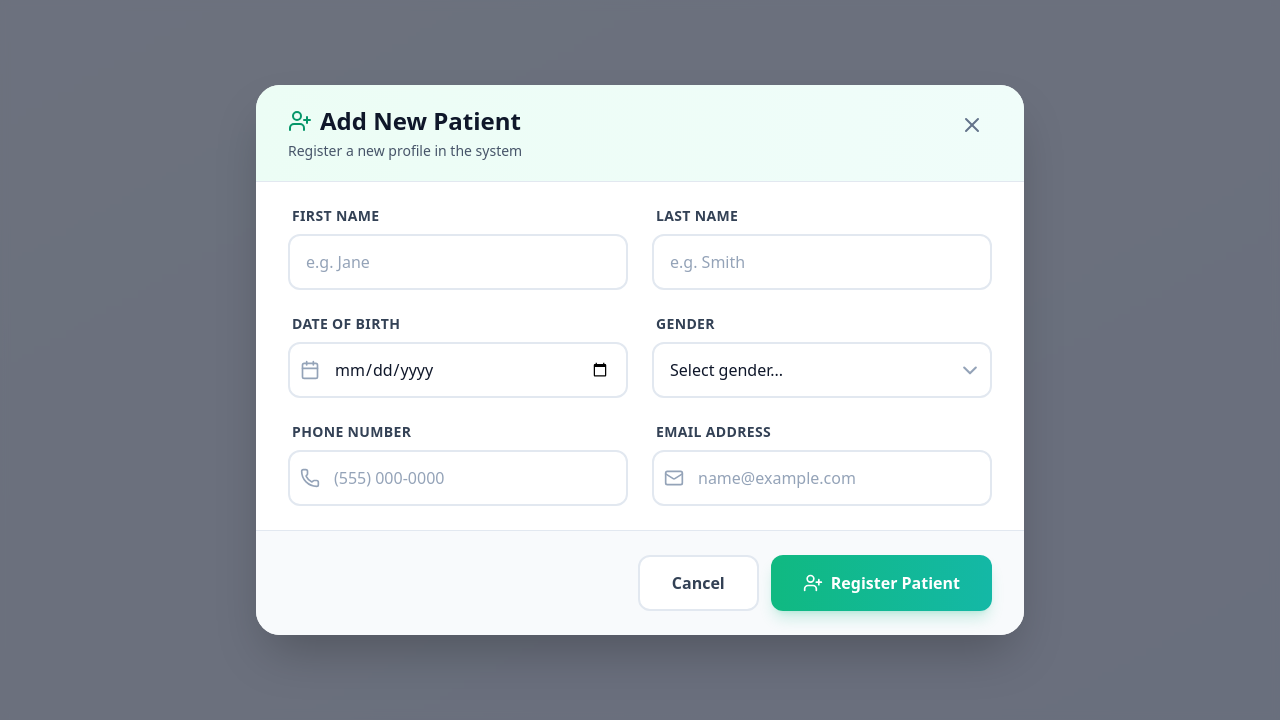
AddPatientModal › should show validation errors when submitting an empty form
This screenshot has width=1280, height=720.
Note: Click the submit button
What coordinates should you click on to do the following:
click the button "Register Patient"
I would click on:
 (881, 583)
Its box is x1=771 y1=555 x2=992 y2=611.
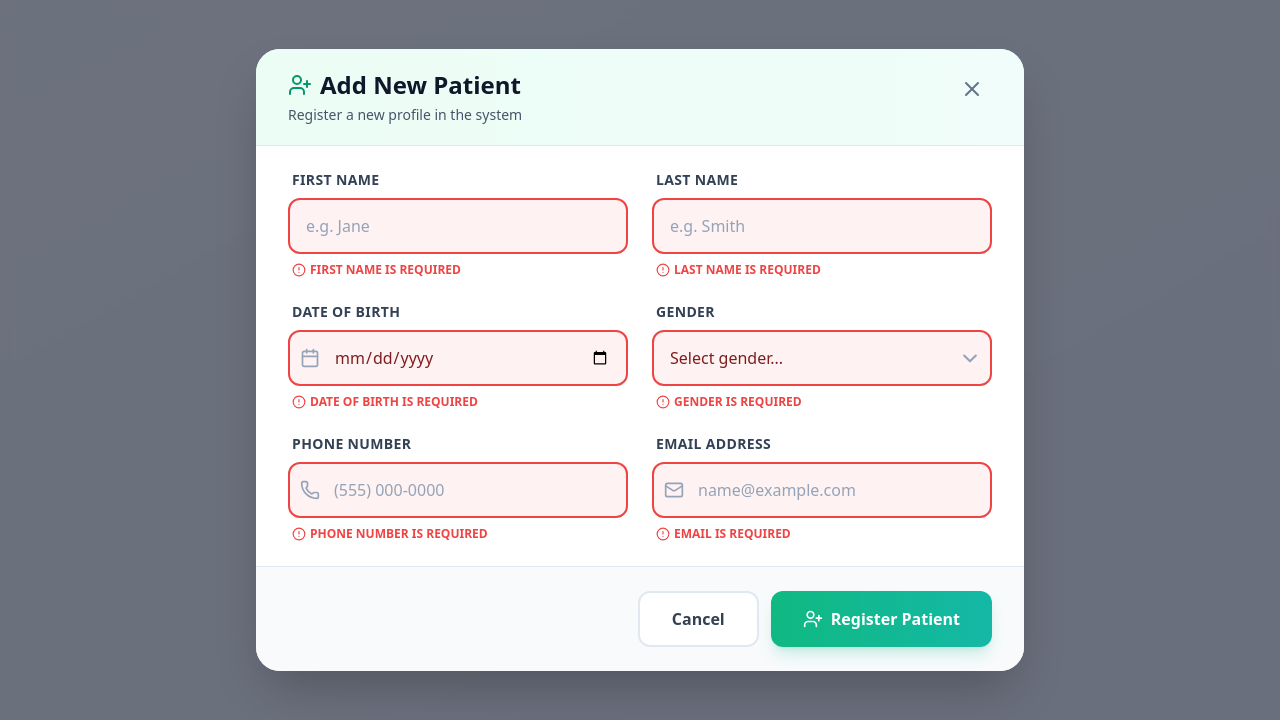
Check: the text "First name is required" is shown, box x1=292 y1=261 x2=461 y2=278
Check: the text "Last name is required" is shown, box x1=656 y1=261 x2=821 y2=278
Check: the text "Date of birth is required" is shown, box x1=292 y1=393 x2=478 y2=410
